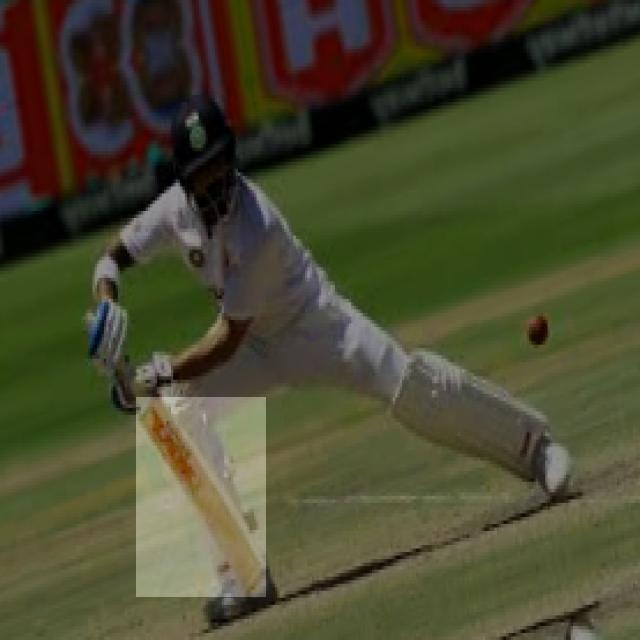bat: (137, 398, 269, 597)
toe: (248, 566, 265, 598)
